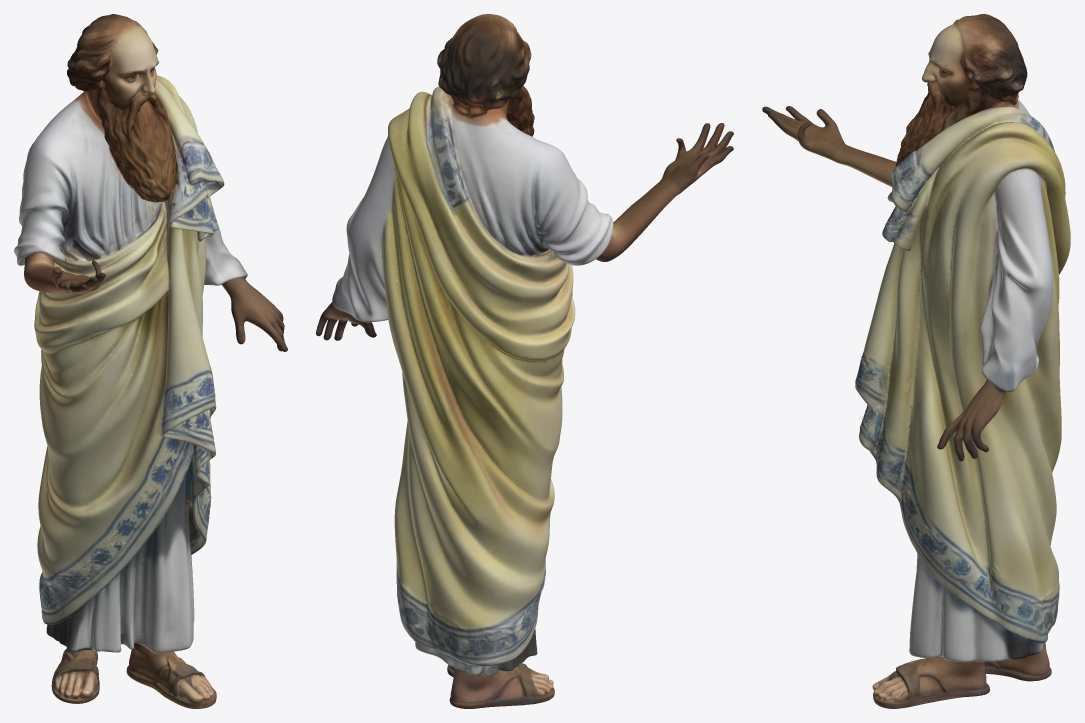
Rendered from pitagoras.glb.
3 renders of one model, left to right at view 1: azimuth 30°, elevation 25°; view 2: azimuth 150°, elevation 25°; view 3: azimuth 270°, elevation 25°, orthographic.
Parts seen in each view (by area): view 1: Object_5, Object_8, Object_6, Object_7; view 2: Object_7, Object_6, Object_5, Object_8; view 3: Object_6, Object_7, Object_5, Object_8.
Part boxes in pixels (box(x1,y1,x2,y2)): Object_5: box(20, 83, 224, 708); Object_8: box(16, 27, 287, 703); Object_6: box(19, 15, 257, 689); Object_7: box(14, 14, 283, 699); Object_7: box(316, 14, 603, 708); Object_6: box(327, 19, 650, 708); Object_5: box(525, 89, 733, 488); Object_8: box(323, 14, 639, 698); Object_6: box(898, 14, 1063, 704); Object_7: box(925, 14, 1070, 696); Object_5: box(762, 72, 944, 708); Object_8: box(895, 16, 981, 701).
Bounding box in the file's own units: 1 × 2 × 0.8395.
1 material, 1 textured.
